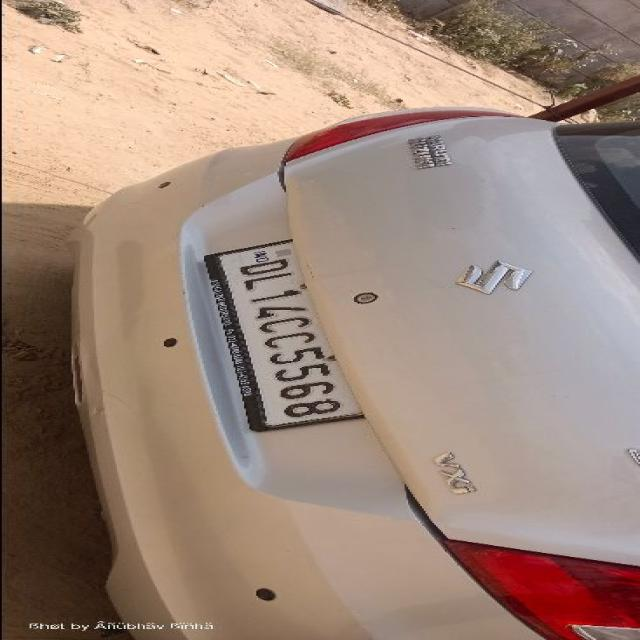license_plate: (68, 107, 637, 638), (176, 168, 368, 433)
